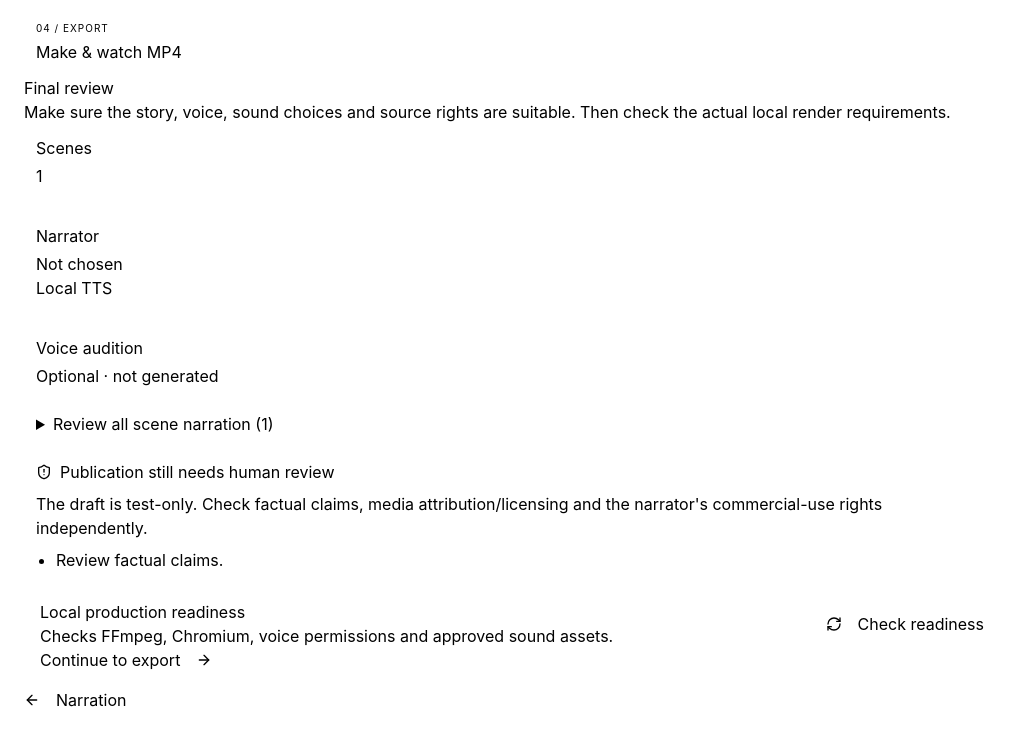
it: does not let delayed job recovery overwrite a newer readiness result
(page scrolled)
What coordinates should you click on to do the following:
click the button "Check readiness"
I would click on:
 (905, 624)
Its box is [826, 612, 984, 636].
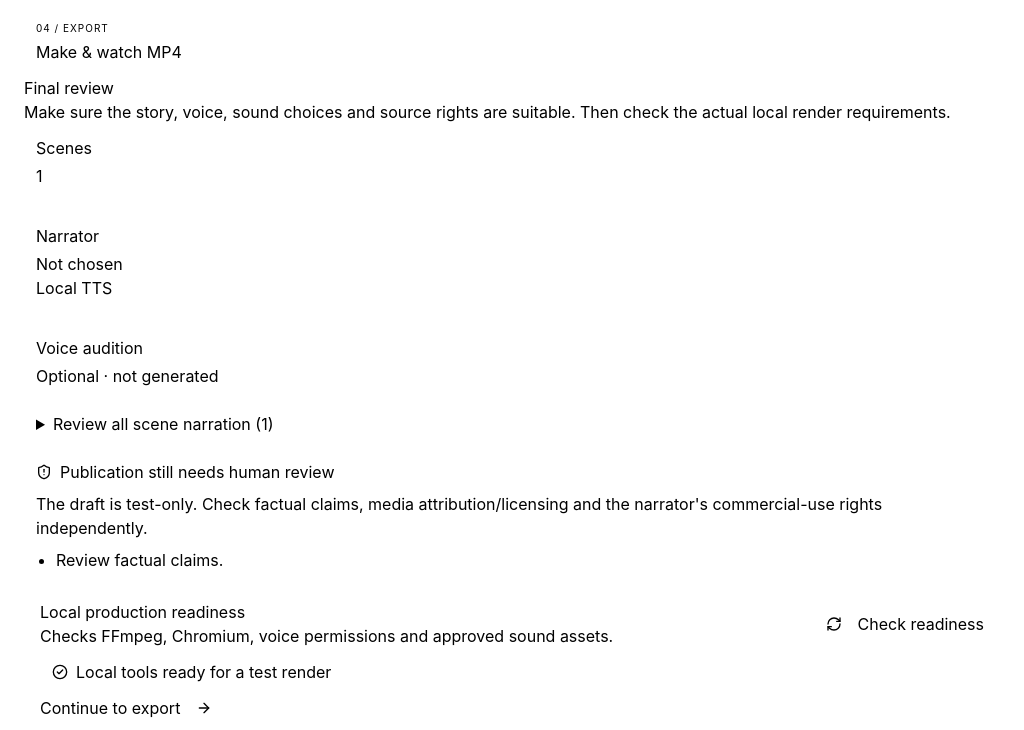
Result: the button "Continue to export" is enabled at [40, 696, 212, 720]
